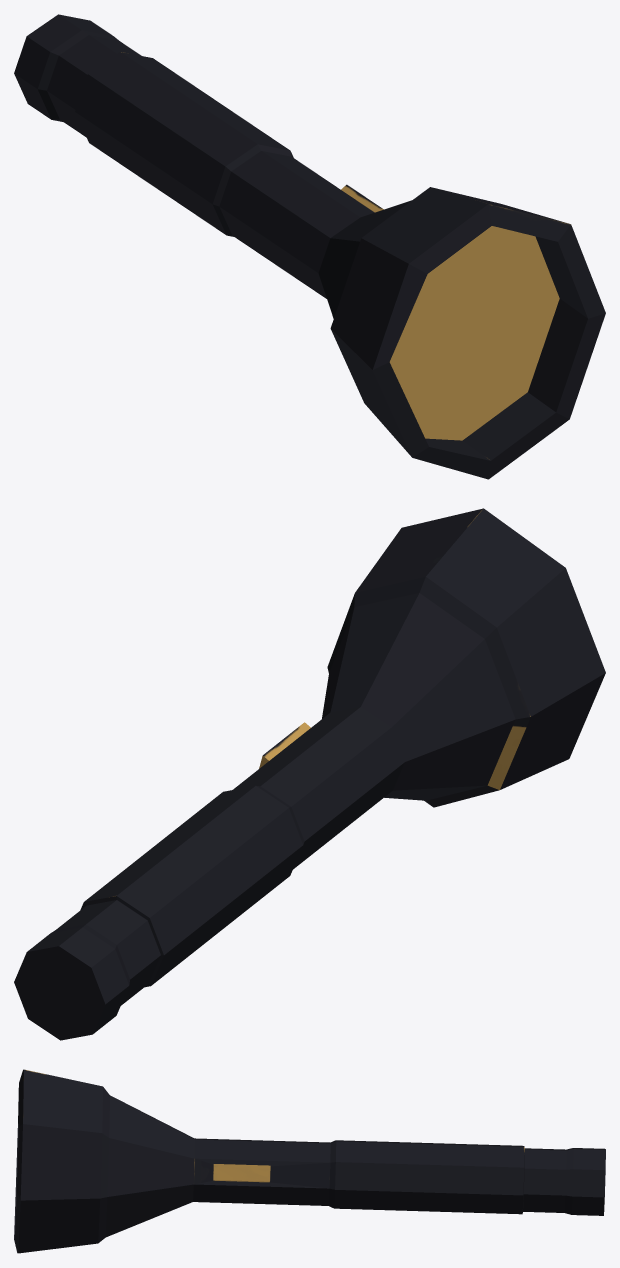
Rendered from flashlight.glb.
3 renders of one model, top to bottom at view 1: azimuth 30°, elevation 25°; view 2: azimuth 150°, elevation 25°; view 3: azimuth 270°, elevation 25°, orthographic. The views are drawn at different scales.
Parts seen in each view (by area): view 1: Circle; view 2: Circle; view 3: Circle.
Part boxes in pixels (x1=…): Circle: x1=14, y1=14, x2=605, y2=479; Circle: x1=14, y1=508, x2=605, y2=1040; Circle: x1=14, y1=1069, x2=605, y2=1253.
Bounding box in the file's own units: 2.17 × 2.41 × 6.96.
Materials: 1 (1 with a texture image).
